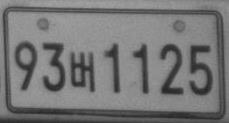1: (131, 42, 155, 94), (102, 42, 126, 93)
2: (158, 42, 184, 94)
3: (42, 41, 66, 92)
5: (188, 44, 213, 96)
9: (13, 40, 38, 91)
버: (69, 50, 95, 91)
